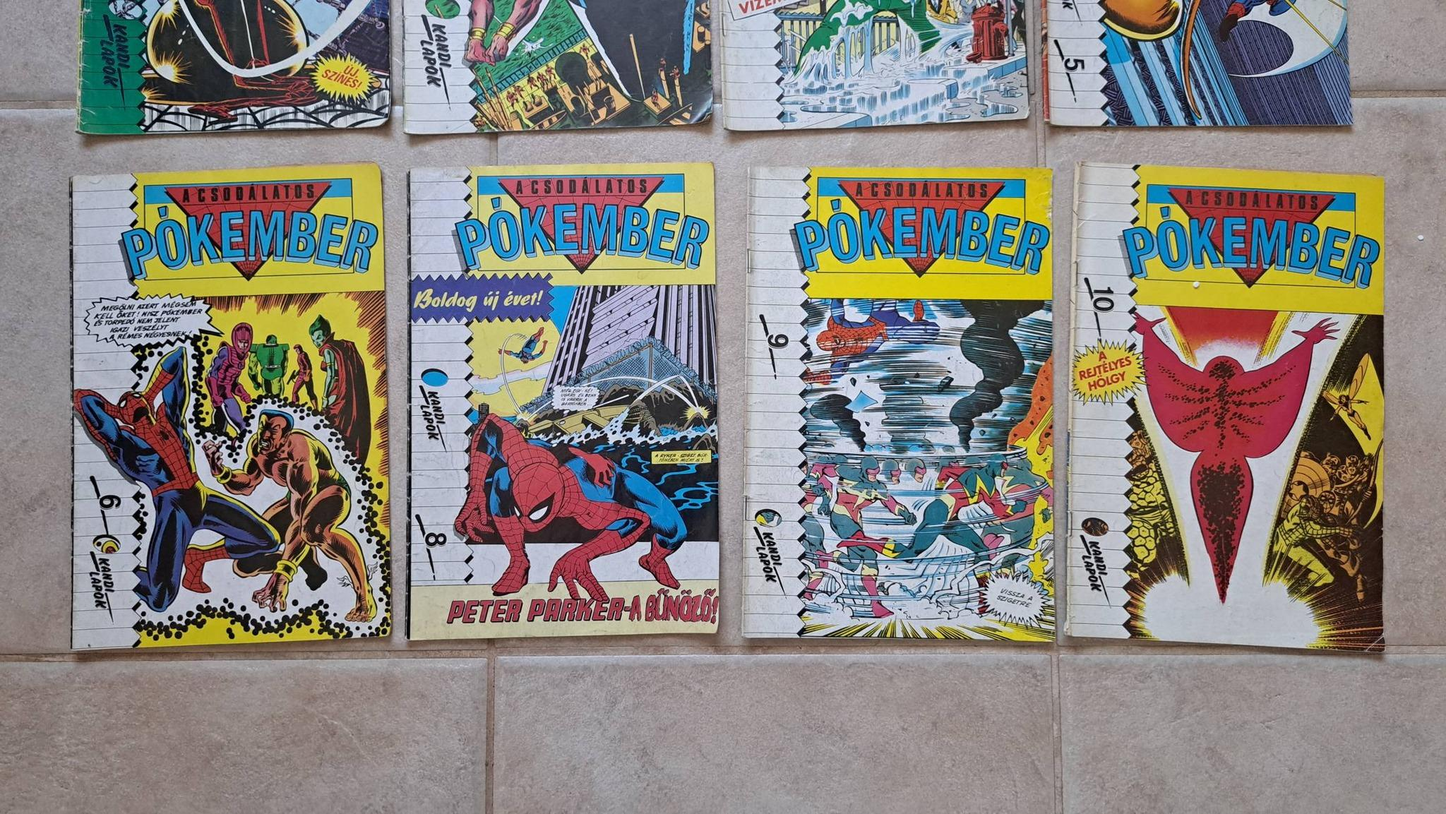comic: (1065, 164, 1392, 650), (72, 164, 390, 648), (742, 167, 1058, 640), (406, 164, 719, 639)
